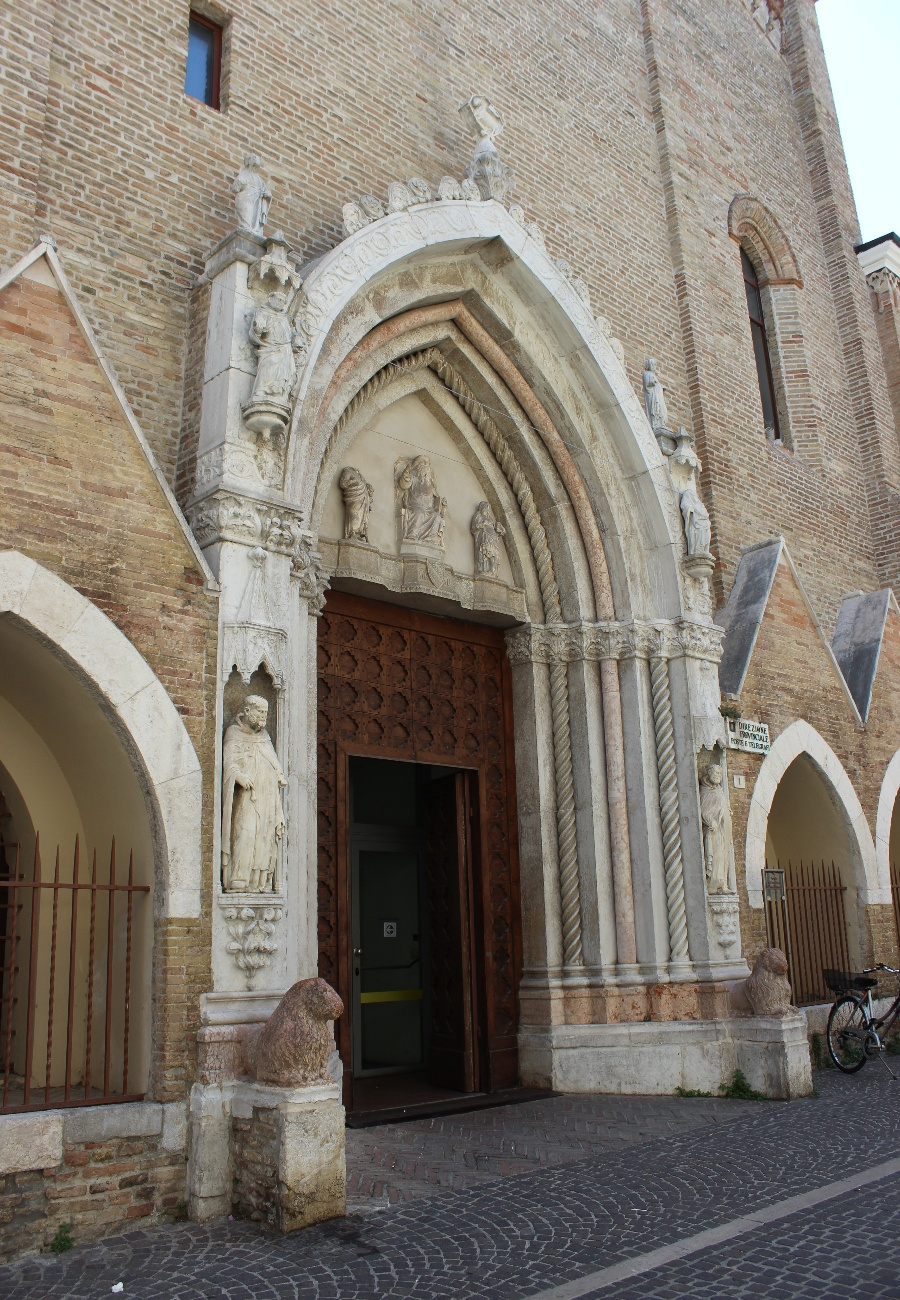Portale San Domenico: (185, 63, 816, 1144)
